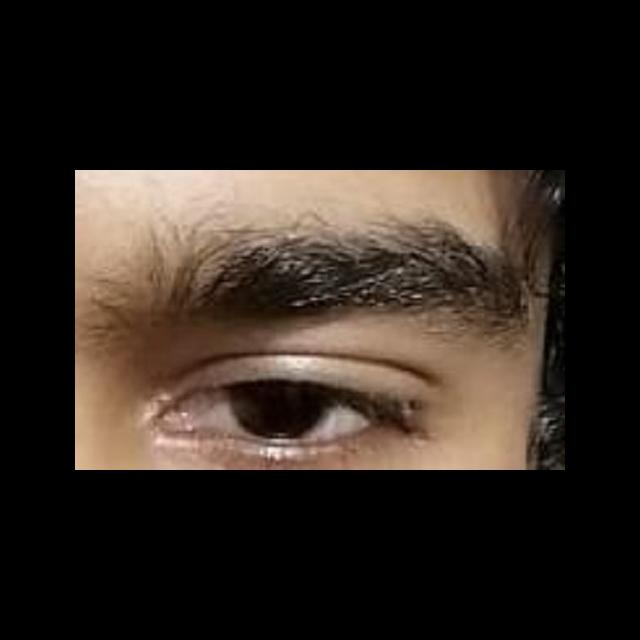eye: (185, 382, 372, 442)
iris: (229, 385, 332, 437)
